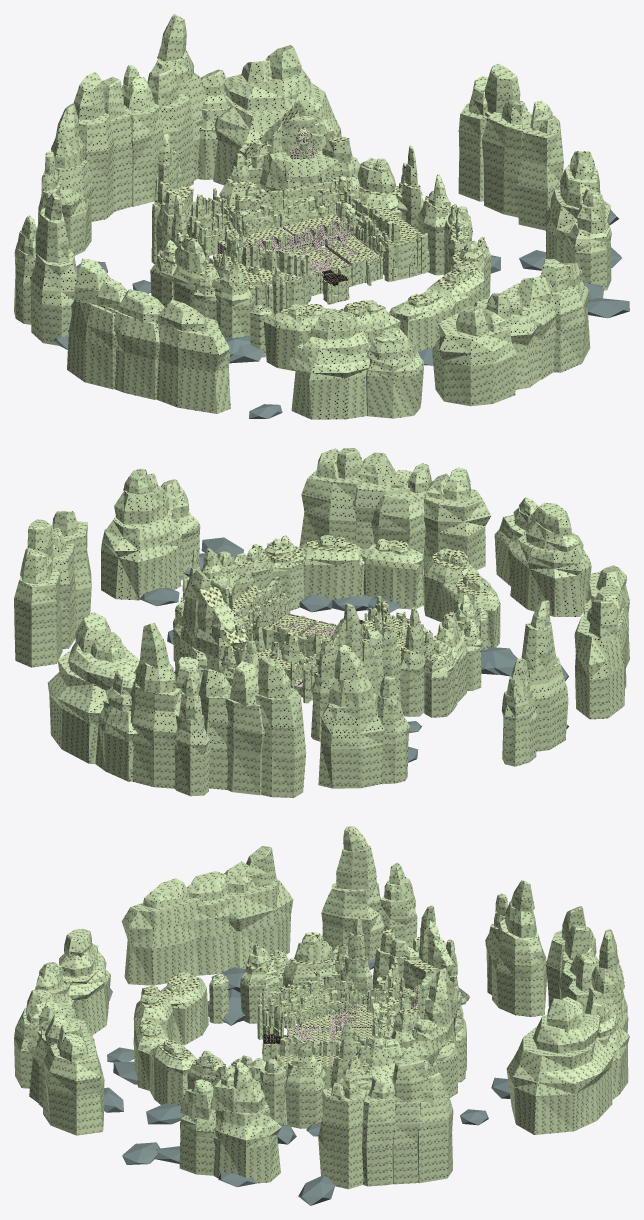
File: LOBBY_02_TERRAIN_dd376e.fbx
3 views of the same model, one above another, from view 1: azimuth 30°, elevation 25°; view 2: azimuth 150°, elevation 25°; view 3: azimuth 270°, elevation 25° (orthographic). The views are drawn at different scales.
Parts seen in each view (by area): view 1: TER_Mountains_Peaks__Cliff_Rock_Far_Dark, TER_Mountains_Peaks__Cliff_Rock_Far, TER_Mountains_Peaks__Cliff_Rock_Mid_Dark, TER_Mountains_Peaks__Cliff_Rock_Mid, TER_Far_Valley__Far_Haze, TER_Mountains_Near__Cliff_Rock, TER_Mountains_Near__Cliff_Rock_Dark, TER_Mountains_Peaks__Grass_Dark, TER_Mountains_Near__Cliff_Rock_Top, TER_Mountains_Near__Cliff_Rock_Mid, TER_Mountains_Near__Cliff_Rock_Mid_Dark, TER_Mountains_Near__Grass_Dark (+6 smaller); view 2: TER_Mountains_Peaks__Cliff_Rock_Far_Dark, TER_Mountains_Peaks__Cliff_Rock_Far, TER_Mountains_Peaks__Cliff_Rock_Mid_Dark, TER_Mountains_Peaks__Cliff_Rock_Mid, TER_Far_Valley__Far_Haze, TER_Mountains_Peaks__Grass_Dark, TER_Mountains_Near__Grass_Dark, TER_Mountains_Near__Cliff_Rock_Mid, TER_Mountains_Near__Cliff_Rock_Top, TER_Mountains_Near__Cliff_Rock_Mid_Dark, TER_Mountains_Near__Cliff_Rock_Dark, TER_Mountains_Near__Cliff_Rock (+1 smaller); view 3: TER_Mountains_Peaks__Cliff_Rock_Far_Dark, TER_Mountains_Peaks__Cliff_Rock_Far, TER_Mountains_Peaks__Cliff_Rock_Mid_Dark, TER_Mountains_Peaks__Cliff_Rock_Mid, TER_Far_Valley__Far_Haze, TER_Mountains_Peaks__Grass_Dark, TER_Mountains_Near__Cliff_Rock_Dark, TER_Mountains_Near__Cliff_Rock_Top, TER_Mountains_Near__Cliff_Rock, TER_Mountains_Near__Cliff_Rock_Mid, TER_Mountains_Near__Cliff_Rock_Mid_Dark, TER_Mountains_Near__Grass (+2 smaller).
Boxes of the visible parts, bbox=[...] form: TER_Mountains_Peaks__Cliff_Rock_Far_Dark: bbox=[14, 14, 606, 419]; TER_Mountains_Peaks__Cliff_Rock_Far: bbox=[16, 60, 611, 418]; TER_Mountains_Peaks__Cliff_Rock_Mid_Dark: bbox=[150, 89, 491, 371]; TER_Mountains_Peaks__Cliff_Rock_Mid: bbox=[151, 111, 488, 357]; TER_Far_Valley__Far_Haze: bbox=[54, 209, 629, 418]; TER_Mountains_Near__Cliff_Rock: bbox=[198, 196, 428, 314]; TER_Mountains_Near__Cliff_Rock_Dark: bbox=[187, 198, 426, 315]; TER_Mountains_Peaks__Grass_Dark: bbox=[152, 106, 488, 318]; TER_Mountains_Near__Cliff_Rock_Top: bbox=[199, 187, 427, 293]; TER_Mountains_Near__Cliff_Rock_Mid: bbox=[191, 173, 358, 235]; TER_Mountains_Near__Cliff_Rock_Mid_Dark: bbox=[189, 167, 351, 240]; TER_Mountains_Near__Grass_Dark: bbox=[187, 178, 423, 282]; TER_Mountains_Peaks__Cliff_Rock_Far_Dark: bbox=[20, 448, 629, 797]; TER_Mountains_Peaks__Cliff_Rock_Far: bbox=[14, 448, 628, 796]; TER_Mountains_Peaks__Cliff_Rock_Mid_Dark: bbox=[173, 535, 500, 741]; TER_Mountains_Peaks__Cliff_Rock_Mid: bbox=[173, 538, 487, 696]; TER_Far_Valley__Far_Haze: bbox=[139, 537, 568, 762]; TER_Mountains_Peaks__Grass_Dark: bbox=[181, 536, 490, 676]; TER_Mountains_Near__Grass_Dark: bbox=[232, 587, 424, 670]; TER_Mountains_Near__Cliff_Rock_Mid: bbox=[243, 622, 320, 662]; TER_Mountains_Near__Cliff_Rock_Top: bbox=[232, 576, 432, 657]; TER_Mountains_Near__Cliff_Rock_Mid_Dark: bbox=[249, 614, 322, 657]; TER_Mountains_Near__Cliff_Rock_Dark: bbox=[236, 582, 407, 679]; TER_Mountains_Near__Cliff_Rock: bbox=[241, 587, 410, 644]; TER_Mountains_Peaks__Cliff_Rock_Far_Dark: bbox=[26, 826, 629, 1189]; TER_Mountains_Peaks__Cliff_Rock_Far: bbox=[14, 861, 628, 1186]; TER_Mountains_Peaks__Cliff_Rock_Mid_Dark: bbox=[139, 920, 466, 1124]; TER_Mountains_Peaks__Cliff_Rock_Mid: bbox=[133, 905, 469, 1128]; TER_Far_Valley__Far_Haze: bbox=[104, 959, 510, 1205]; TER_Mountains_Peaks__Grass_Dark: bbox=[139, 929, 468, 1074]; TER_Mountains_Near__Cliff_Rock_Dark: bbox=[257, 980, 374, 1088]; TER_Mountains_Near__Cliff_Rock_Top: bbox=[258, 975, 382, 1056]; TER_Mountains_Near__Cliff_Rock: bbox=[259, 980, 379, 1056]; TER_Mountains_Near__Cliff_Rock_Mid: bbox=[377, 956, 404, 1038]; TER_Mountains_Near__Cliff_Rock_Mid_Dark: bbox=[374, 969, 410, 1038]; TER_Mountains_Near__Grass: bbox=[258, 965, 399, 1047].
Size of the model in its own units: 1417 by 377 by 1419.
9 materials, 5 textured.
